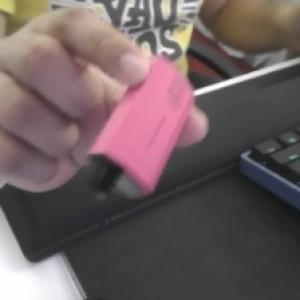Blume-E-Ciggirate: (83, 56, 198, 204)
